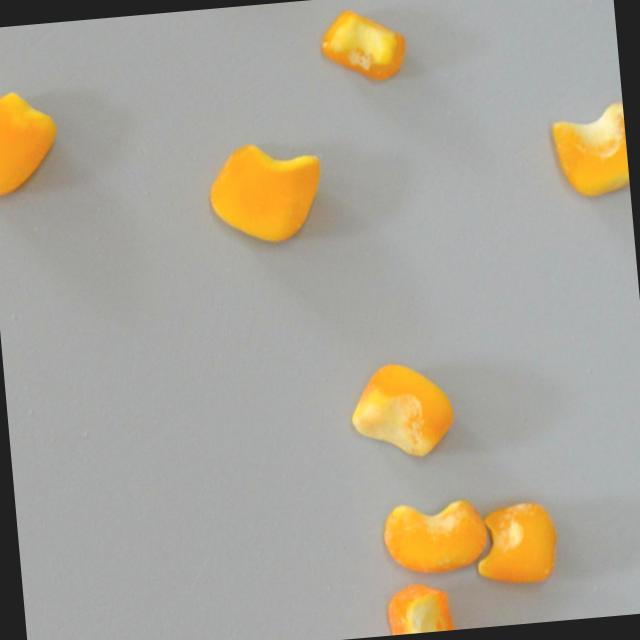no_canjicado: (204, 135, 330, 250), (549, 100, 630, 201), (0, 86, 63, 197)
pelicula: (348, 357, 458, 461), (381, 495, 490, 576), (472, 499, 562, 586), (319, 4, 408, 86), (386, 579, 468, 635)
